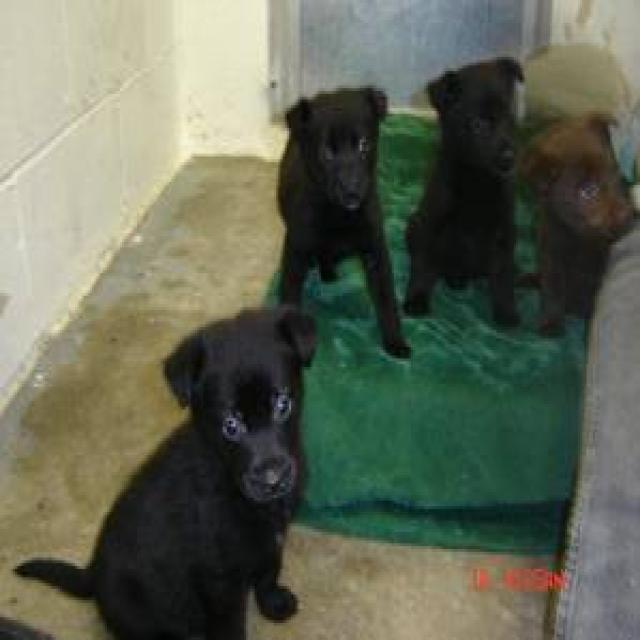dog: (13, 302, 317, 637), (270, 82, 411, 362), (400, 54, 524, 327), (514, 108, 636, 336)
